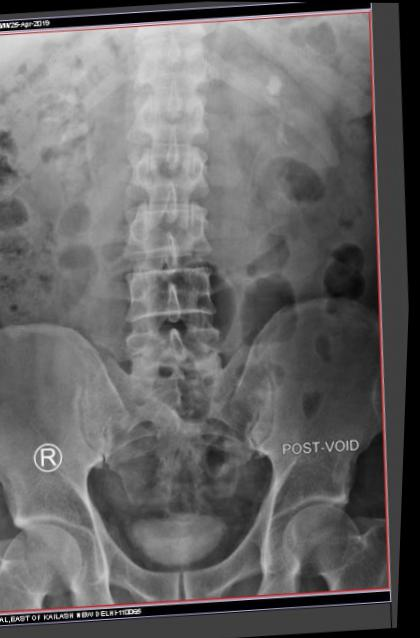bladder: (136, 527, 262, 605)
right kidney: (238, 45, 377, 223)
vertebrae: (135, 78, 236, 148)
